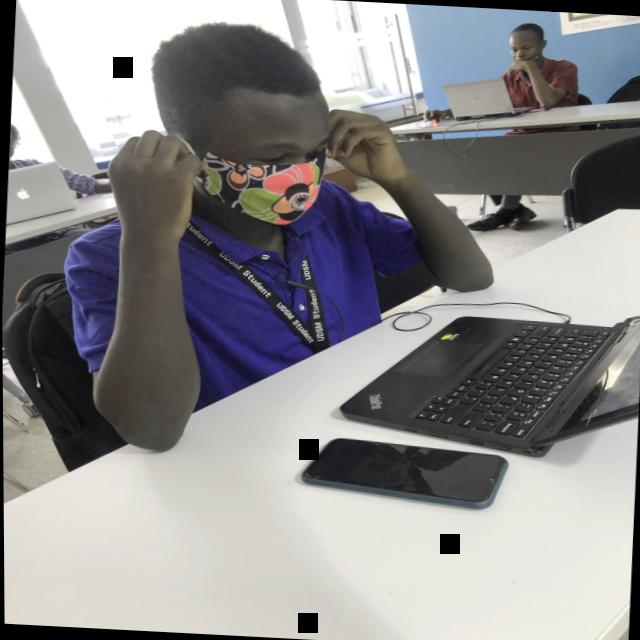Mask: (192, 84, 335, 231), (8, 132, 20, 166)
NO-Mask: (507, 30, 544, 68)
